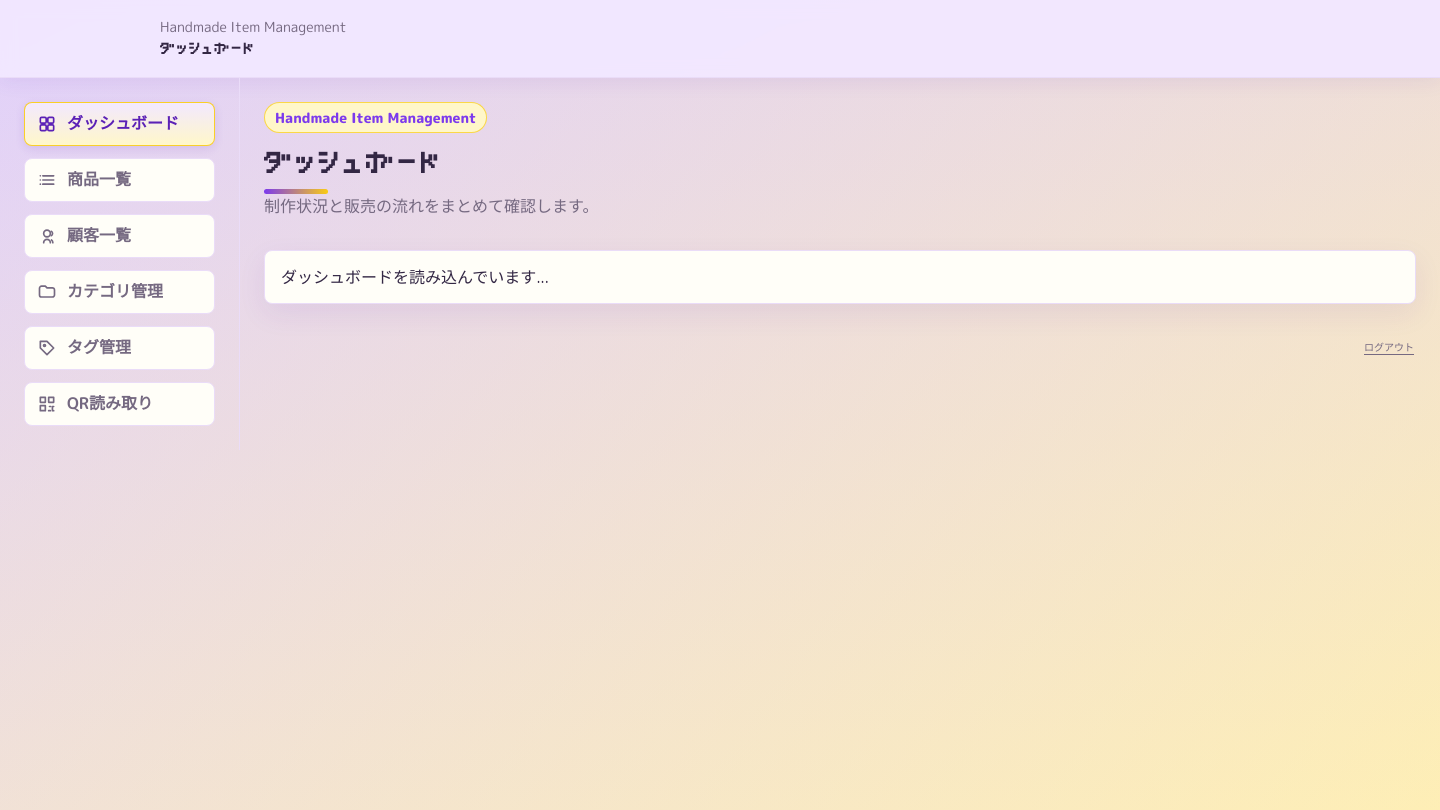
Test case: App routing › logs out from the dashboard footer action
The width and height of the screenshot is (1440, 810).
Click the button "ログアウト": (1389, 348) [1362,336,1416,359]
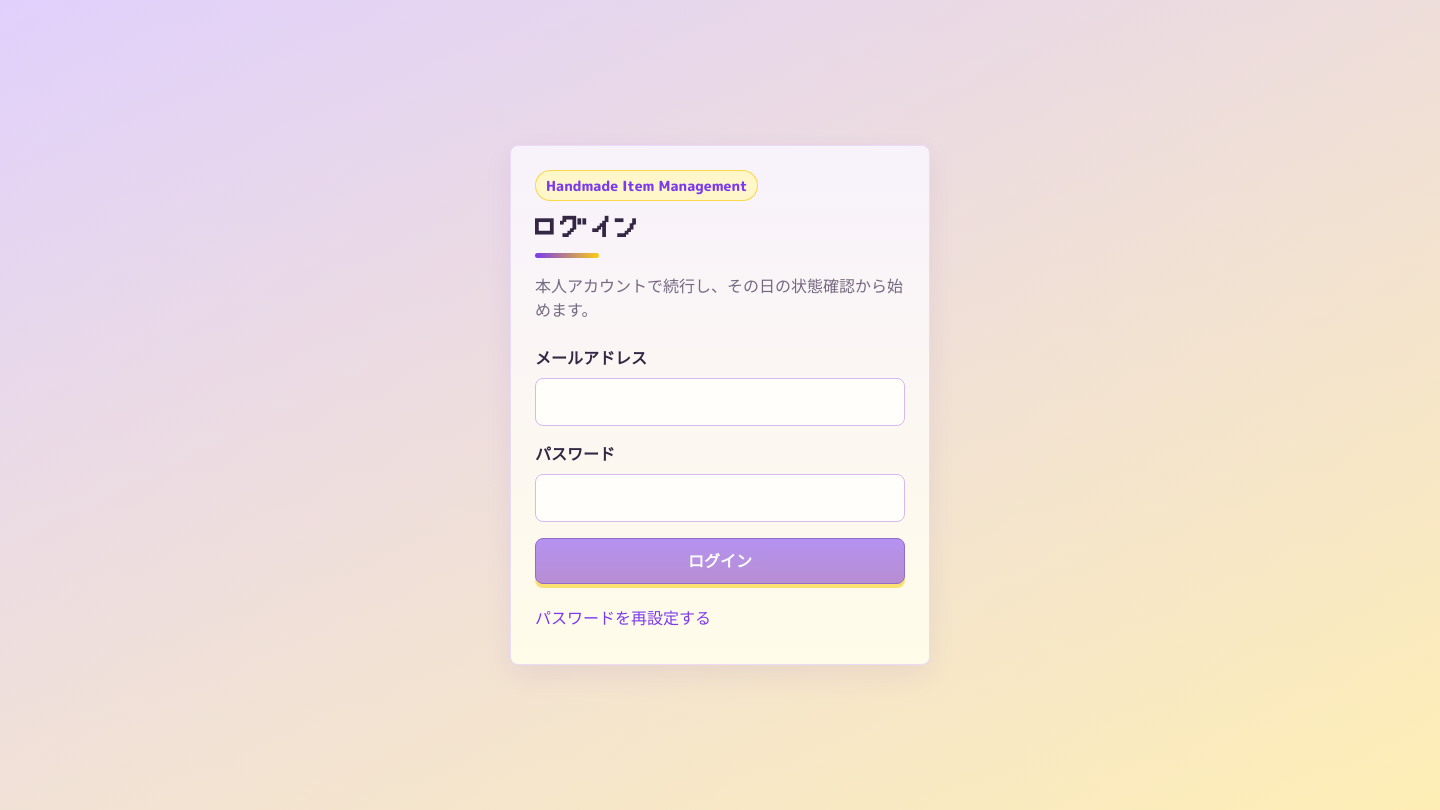
Check: the heading "ログイン" is shown, box [535,212,642,242]
